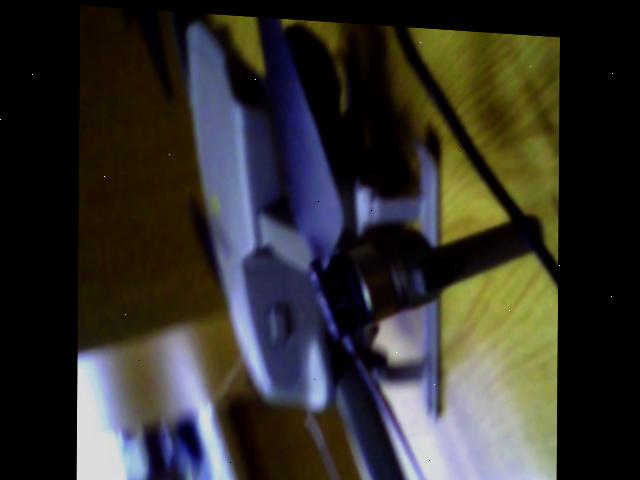drone: (132, 7, 480, 480)
